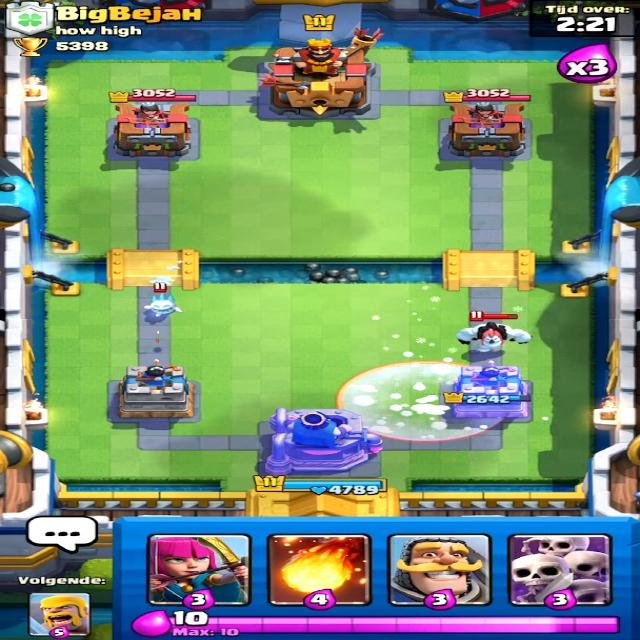Enemy_Ice_Golem_Troop: (448, 321, 542, 351)
Enemy_Ice_Spirit_Troop: (128, 292, 190, 318)
Fireball_Card: (268, 537, 372, 604)
